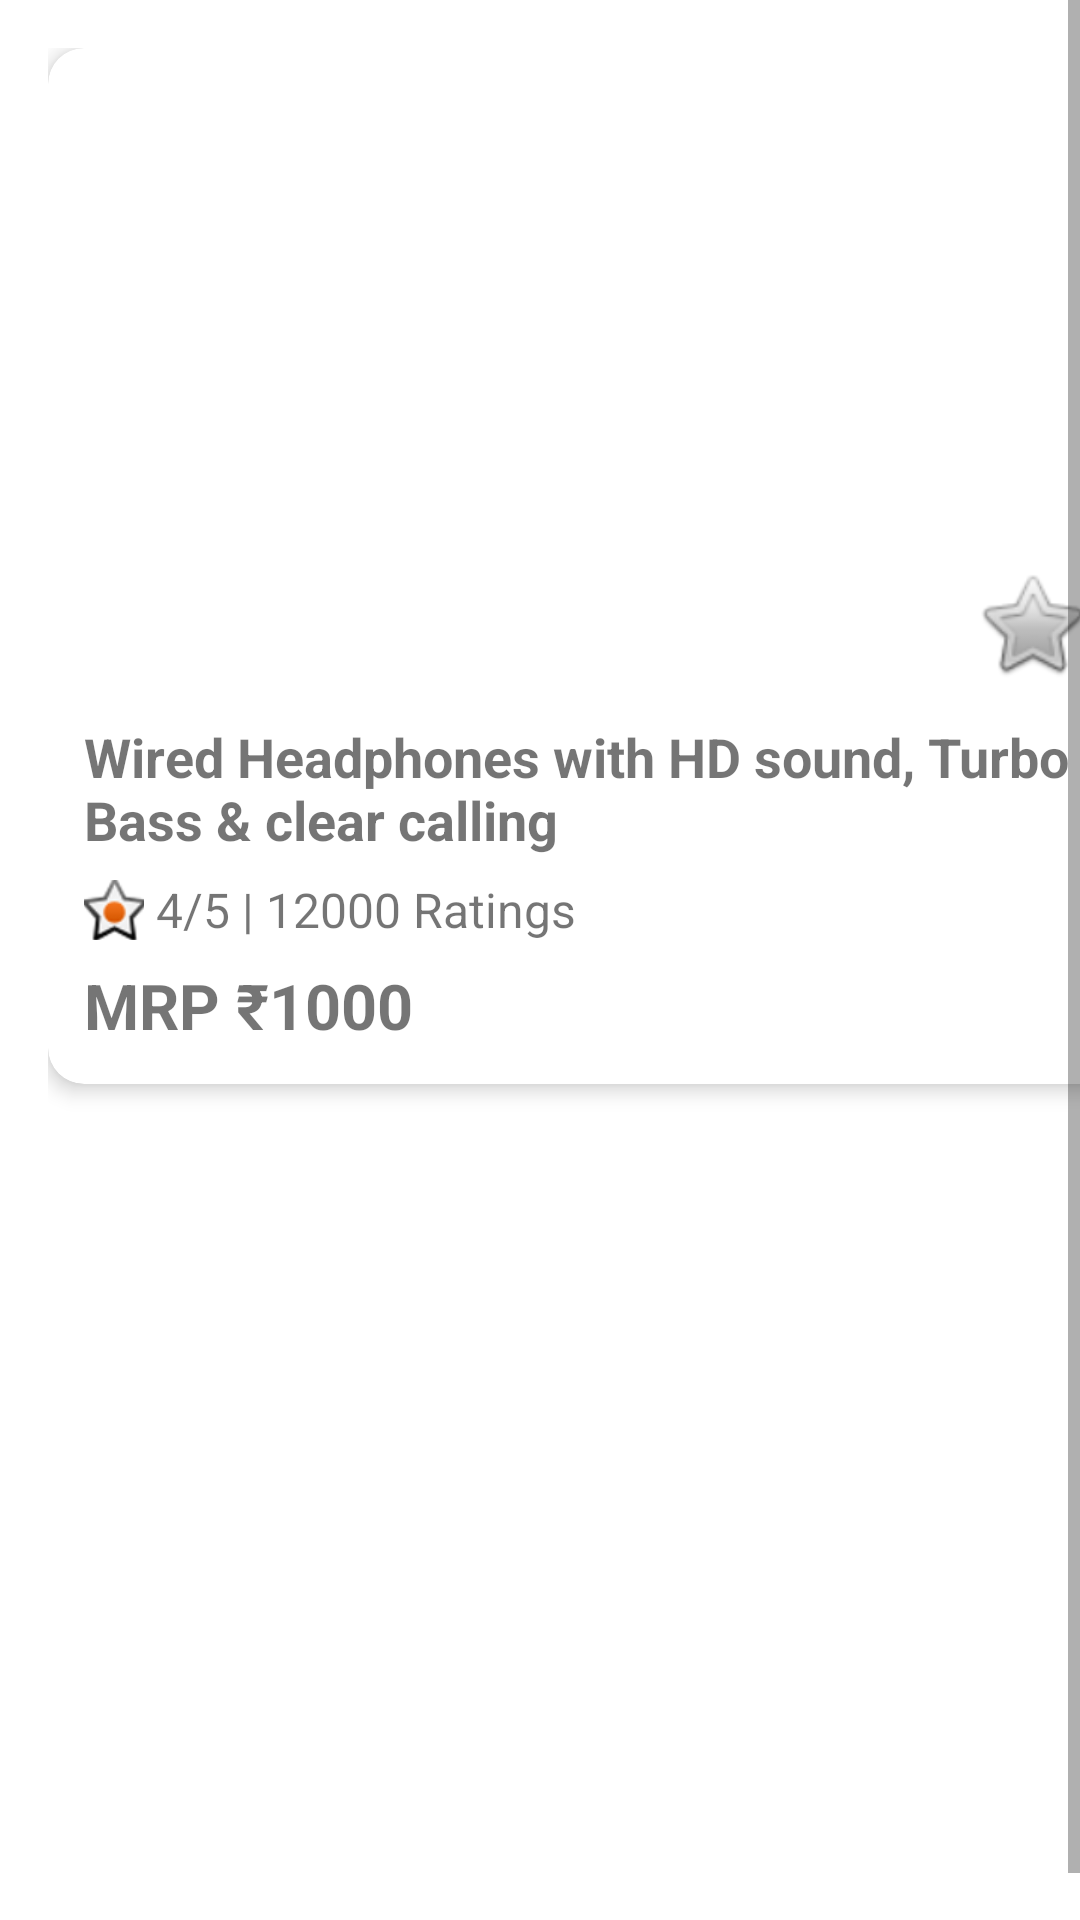

Locate icon controls on the screen. Image size 1080 x 1920, boxes as (x1, y1, x2, y2).
star off: (983, 564, 1080, 684)
star on: (84, 880, 144, 940)
